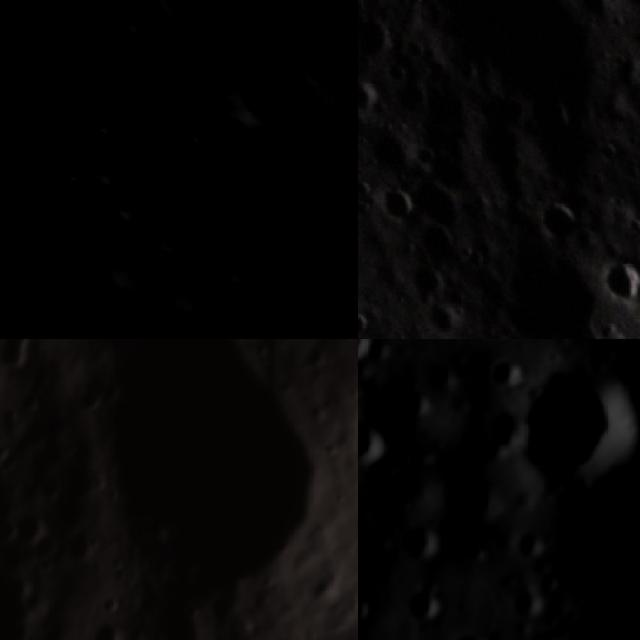crater: (88, 339, 329, 615), (419, 0, 640, 149), (508, 363, 640, 499), (186, 38, 314, 163), (268, 17, 358, 139), (86, 228, 166, 312), (270, 251, 349, 330), (358, 111, 430, 189), (154, 255, 226, 328), (397, 166, 469, 238), (130, 0, 230, 47), (525, 183, 589, 250), (297, 115, 358, 175), (365, 174, 424, 233), (397, 251, 455, 310), (0, 562, 43, 640), (407, 210, 464, 268), (103, 184, 159, 242), (398, 575, 452, 634), (211, 244, 265, 300), (592, 246, 640, 309), (80, 148, 134, 202), (449, 472, 502, 527), (0, 498, 52, 554), (481, 407, 532, 462), (614, 357, 640, 460), (358, 0, 400, 63), (412, 290, 465, 339), (111, 0, 162, 48), (144, 220, 193, 269), (80, 101, 128, 150), (358, 410, 393, 470), (399, 522, 441, 566), (486, 350, 526, 396), (188, 302, 233, 339), (358, 65, 387, 122), (176, 117, 215, 157), (0, 339, 36, 382), (0, 53, 24, 116), (511, 585, 549, 623), (514, 525, 554, 560), (14, 386, 51, 416), (152, 99, 182, 132), (337, 213, 358, 258), (434, 626, 500, 640), (530, 625, 569, 640), (358, 591, 372, 622), (611, 631, 640, 640)
